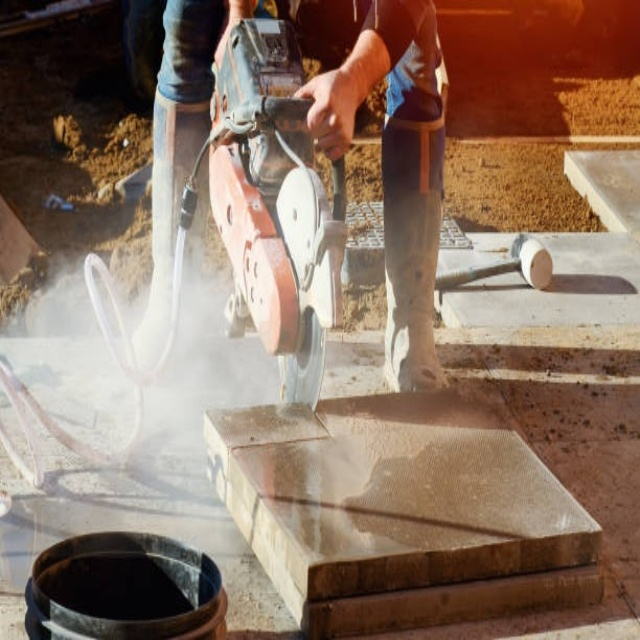Sin_guantes: (293, 63, 361, 161)
